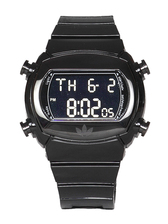watch: (14, 11, 157, 219)
